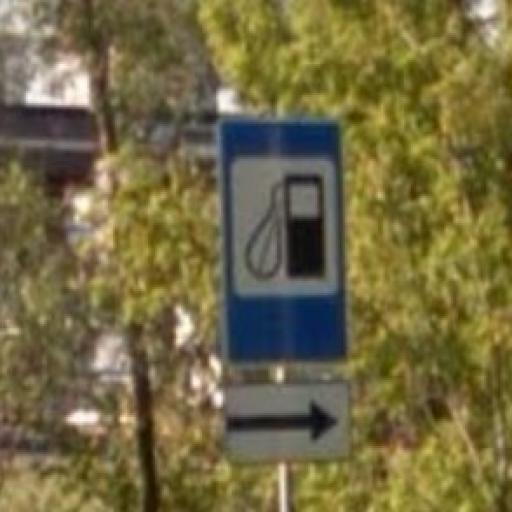traffic_sign: (217, 119, 351, 371)
